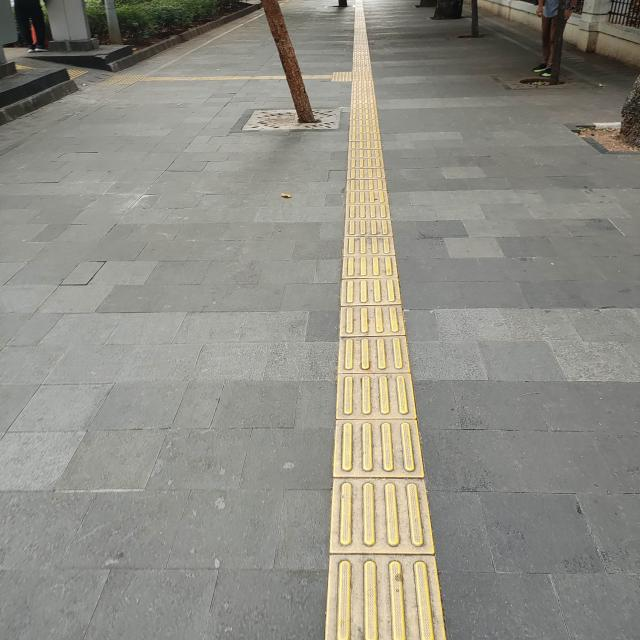lurus: (328, 78, 427, 640)
